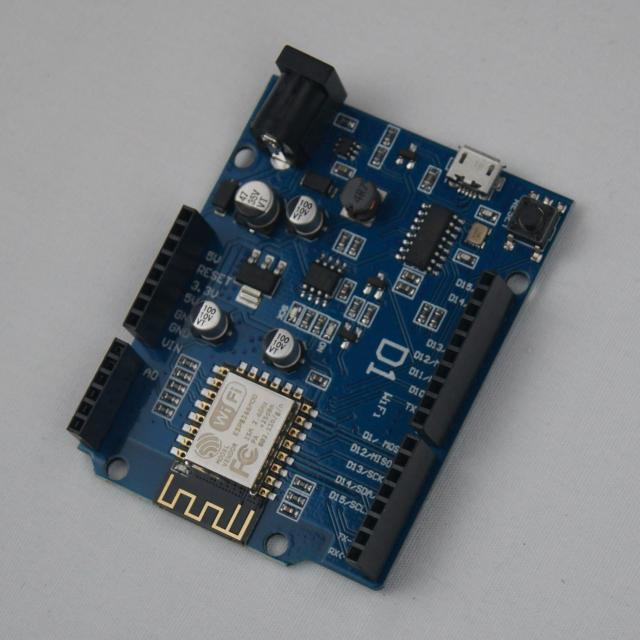Arduino Uno WiFi Shield: (69, 47, 572, 588)
